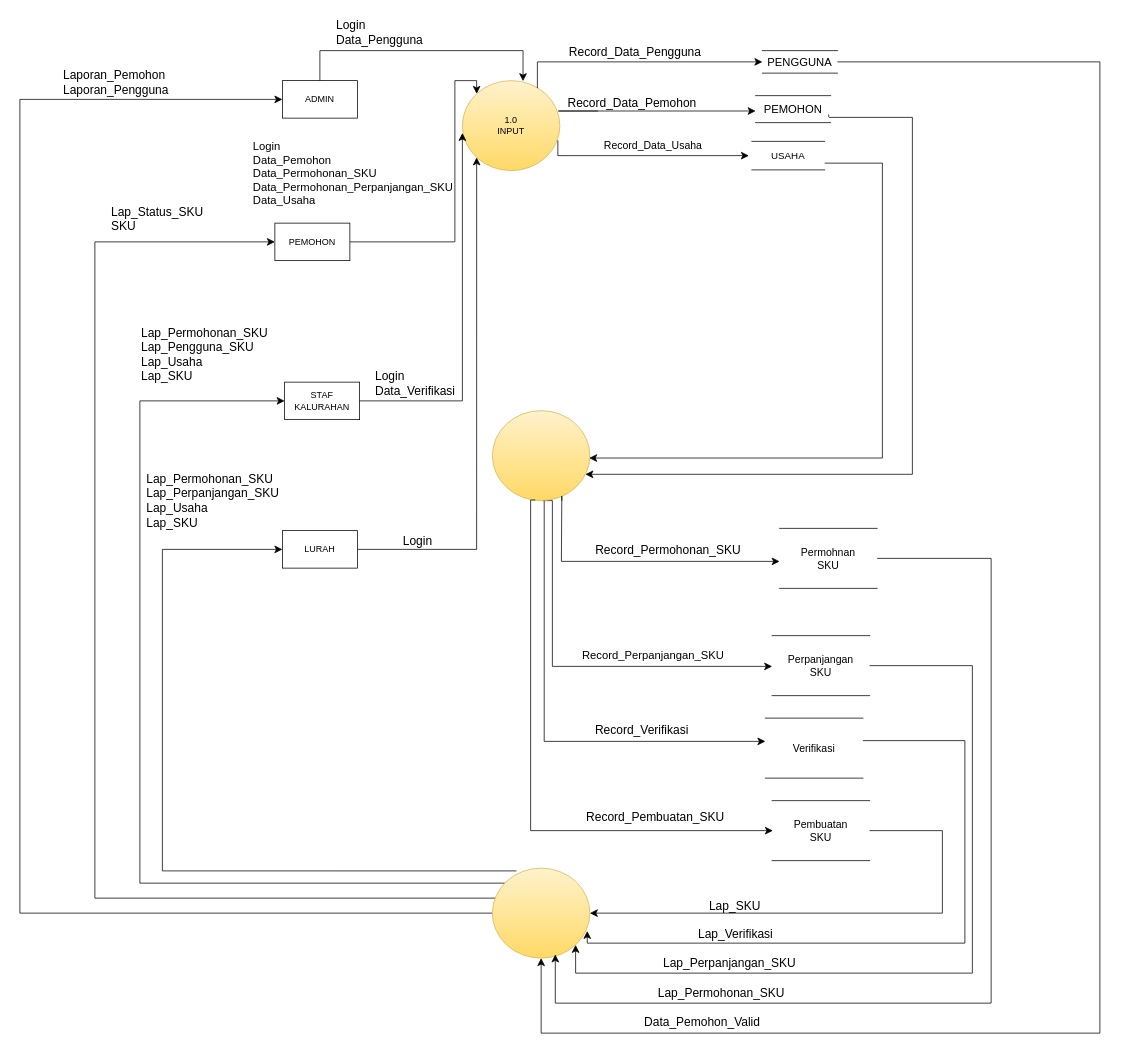
The diagram is 1121 pixels wide and 1054 high, and some of its shapes have lost their labels. The centre of each missing label's shape, as x and y in pixels:
2.0 PROSES: the point at 541,455
3.0 OUTPUT: the point at 541,912
